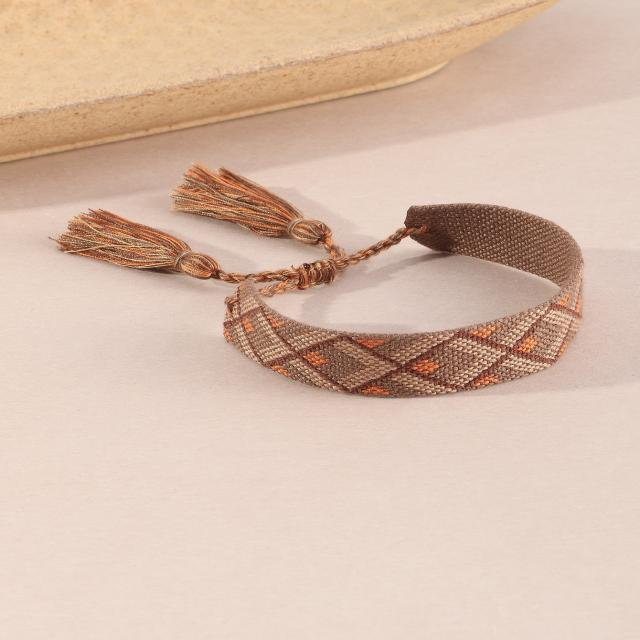bracelet: (0, 100, 640, 440)
